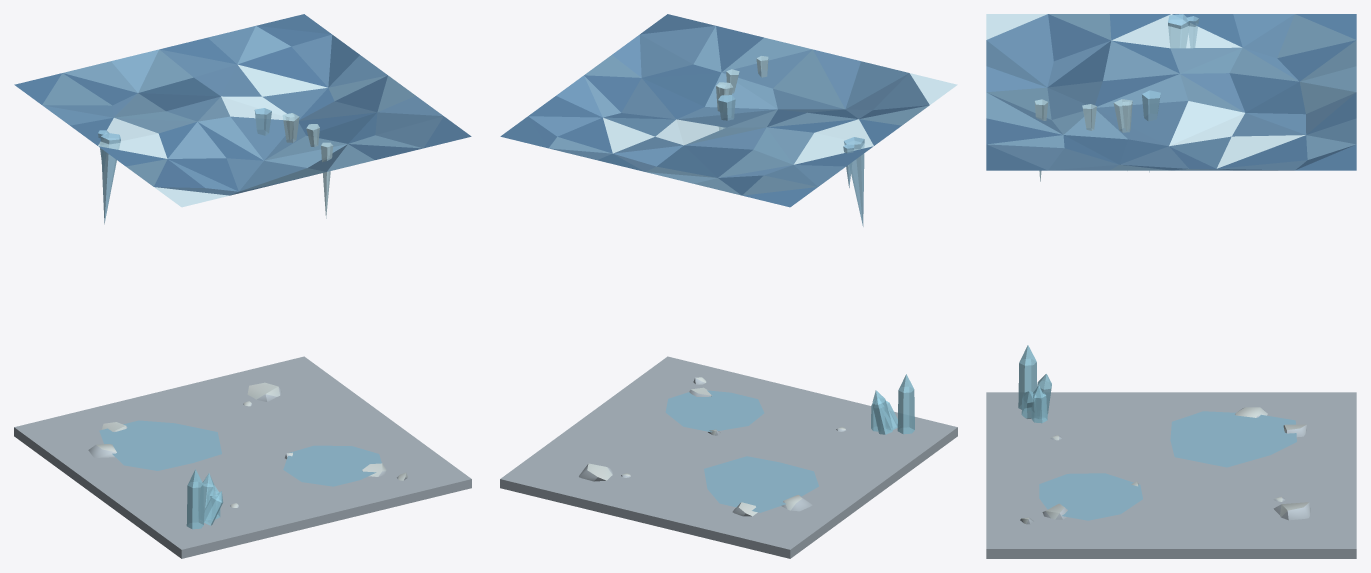
The model's file is floor_c.fbx.
The picture shows the model from 3 angles, left to right: view 1: azimuth 30°, elevation 25°; view 2: azimuth 150°, elevation 25°; view 3: azimuth 270°, elevation 25°; orthographic projection. The views are drawn at different scales.
Visible parts, largest first — view 1: floor_c, Ceiling; view 2: floor_c, Ceiling; view 3: floor_c, Ceiling.
Boxes of the visible parts, x1,y1,x2,y2 form: floor_c: (14, 356, 471, 558); Ceiling: (14, 14, 471, 224); floor_c: (500, 356, 957, 558); Ceiling: (500, 14, 957, 226); floor_c: (986, 345, 1356, 558); Ceiling: (986, 14, 1356, 181).
Bounding box in the file's own units: 4 × 4.68 × 4.
